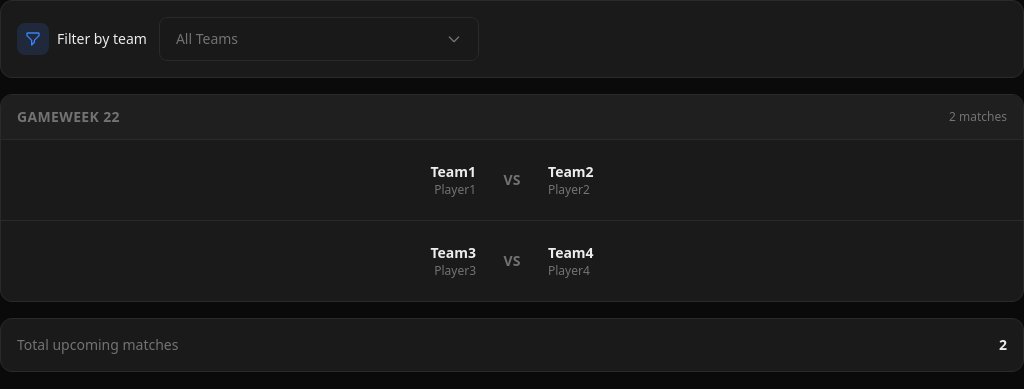
Test: UpcomingFixtures (expanded) › filters fixtures by selected team
Click the button with aria-label "Select team filter" at coordinates (207, 38), box top-left (159, 17), bottom-right (479, 61)
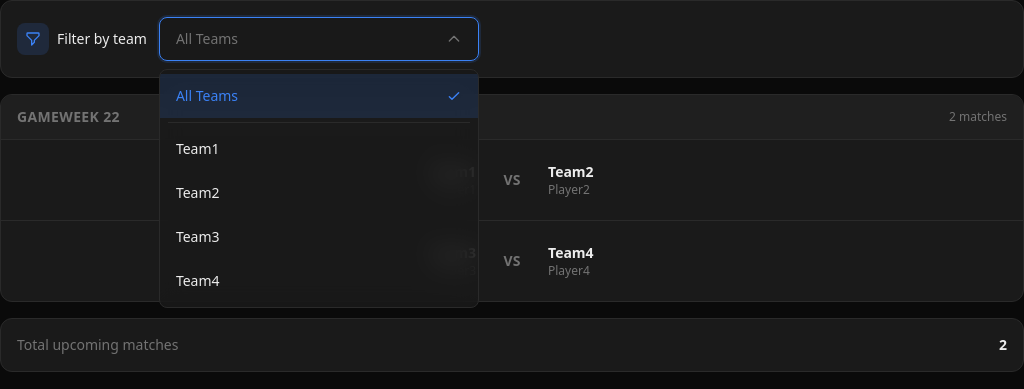
Click the option "Team1" at coordinates (198, 148), box top-left (160, 127), bottom-right (478, 171)
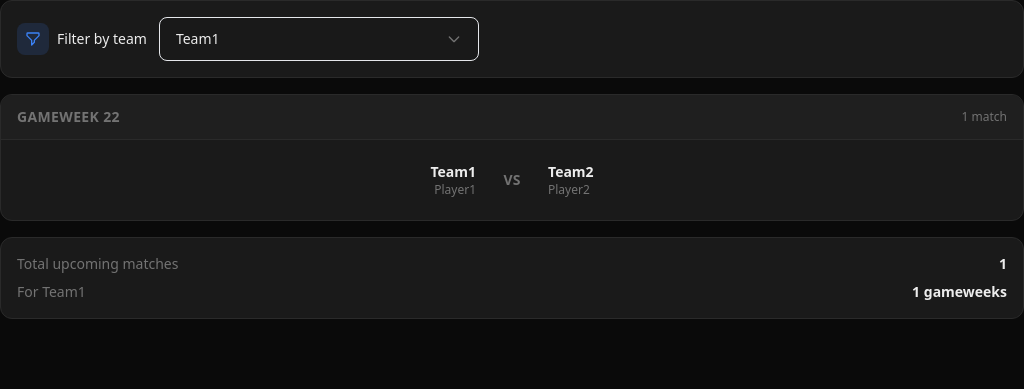
Expected: the text "Team3" is gone
